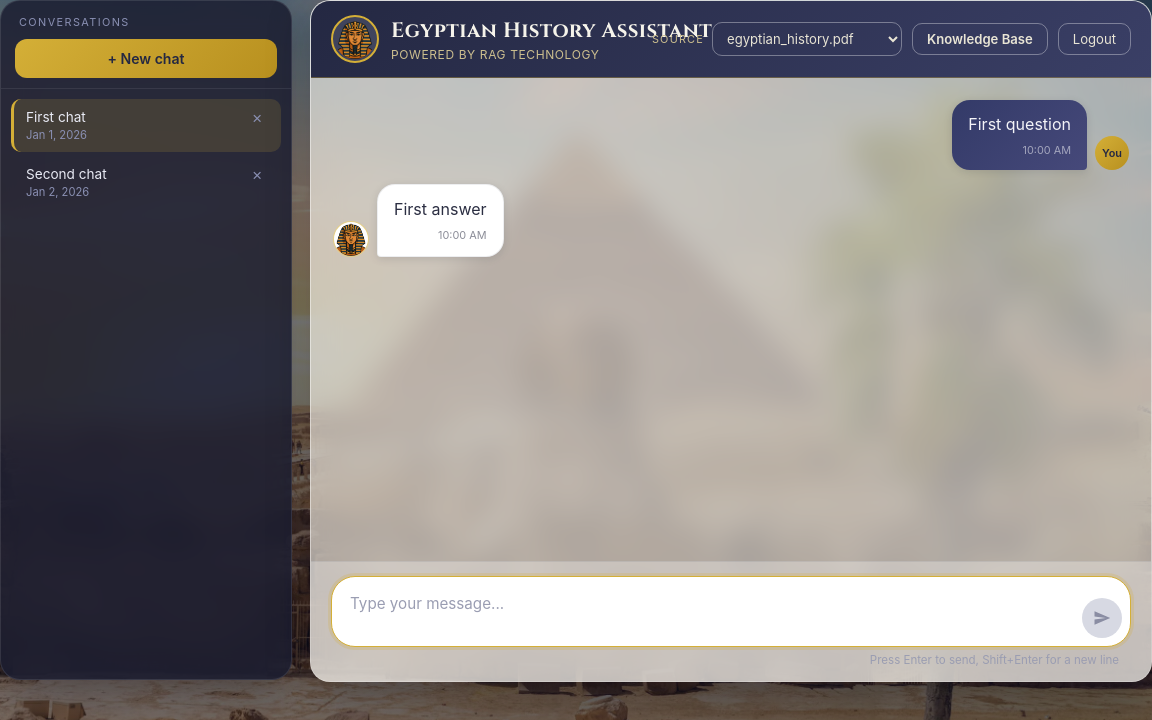
Test: ChatInterface › drops a /query reply that resolves after '+ New chat'
This screenshot has width=1152, height=720.
Check: the text "First question" is shown, box [968,112,1071,136]
Type "slow question" into the text box with placeholder "Type your message...".
click(712, 612); type("slow question")  # box [350,585,1074,638]
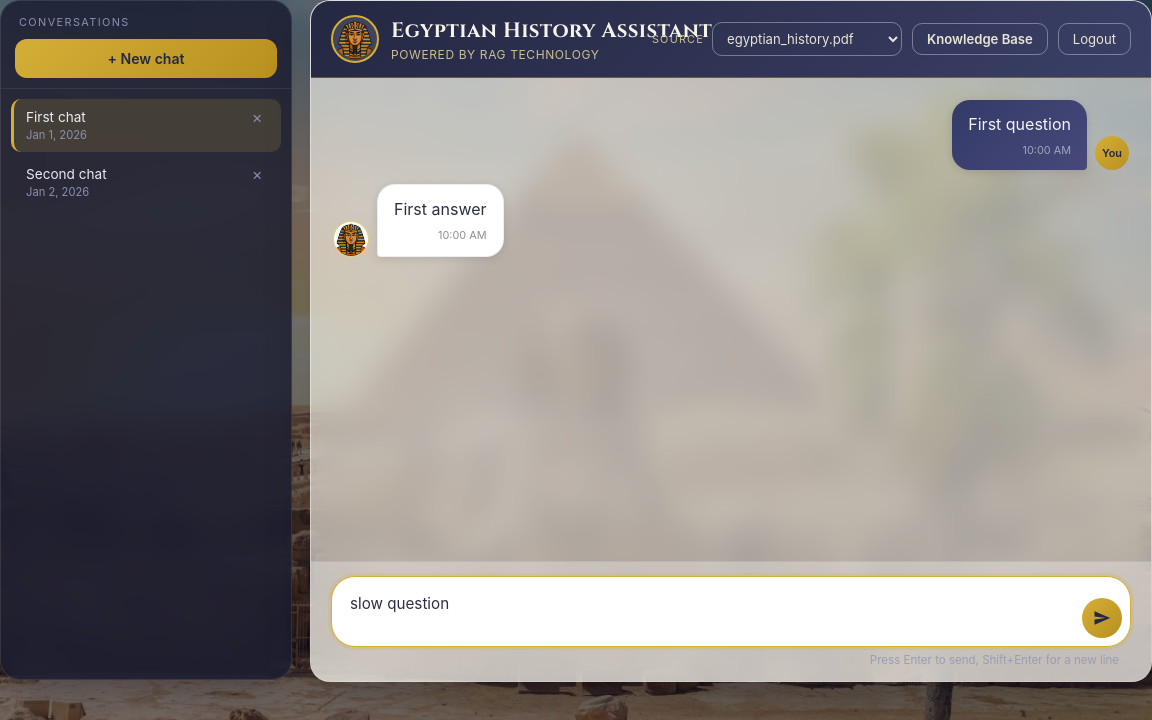
Click the button with class "send-button".
click(1102, 618)  # box [1082,598,1122,638]
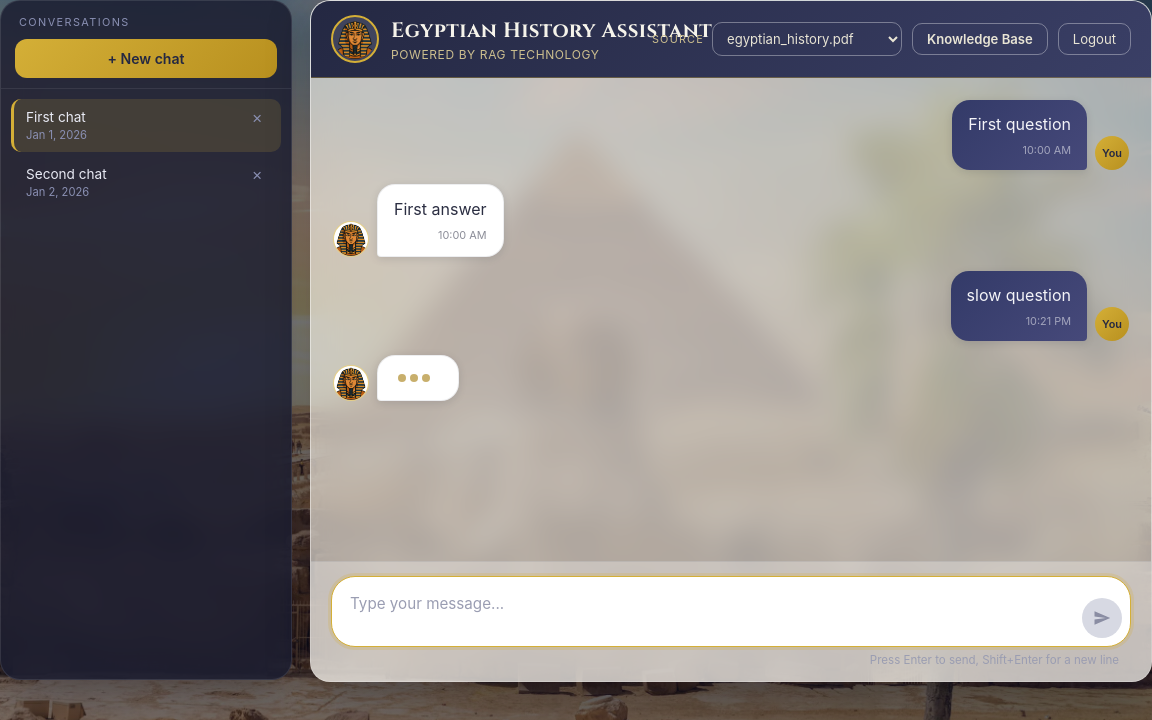
Click the button "+ New chat".
click(146, 58)  # box [15,39,277,78]
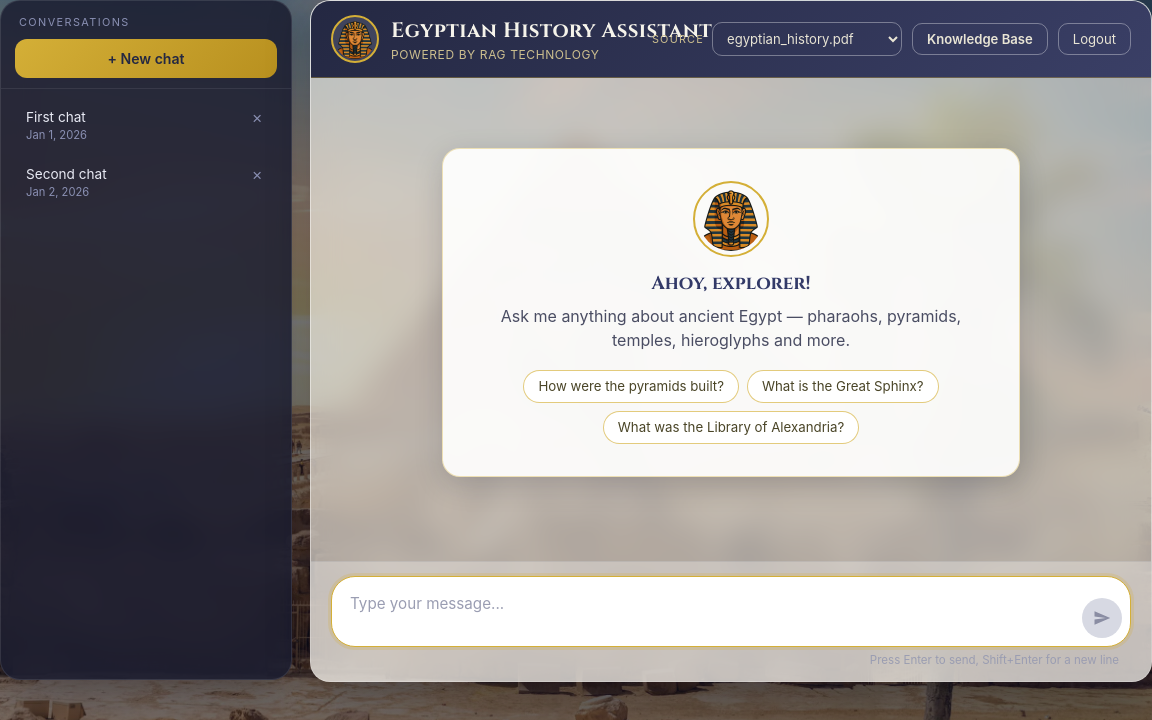
Check: the text "slow question" is gone
